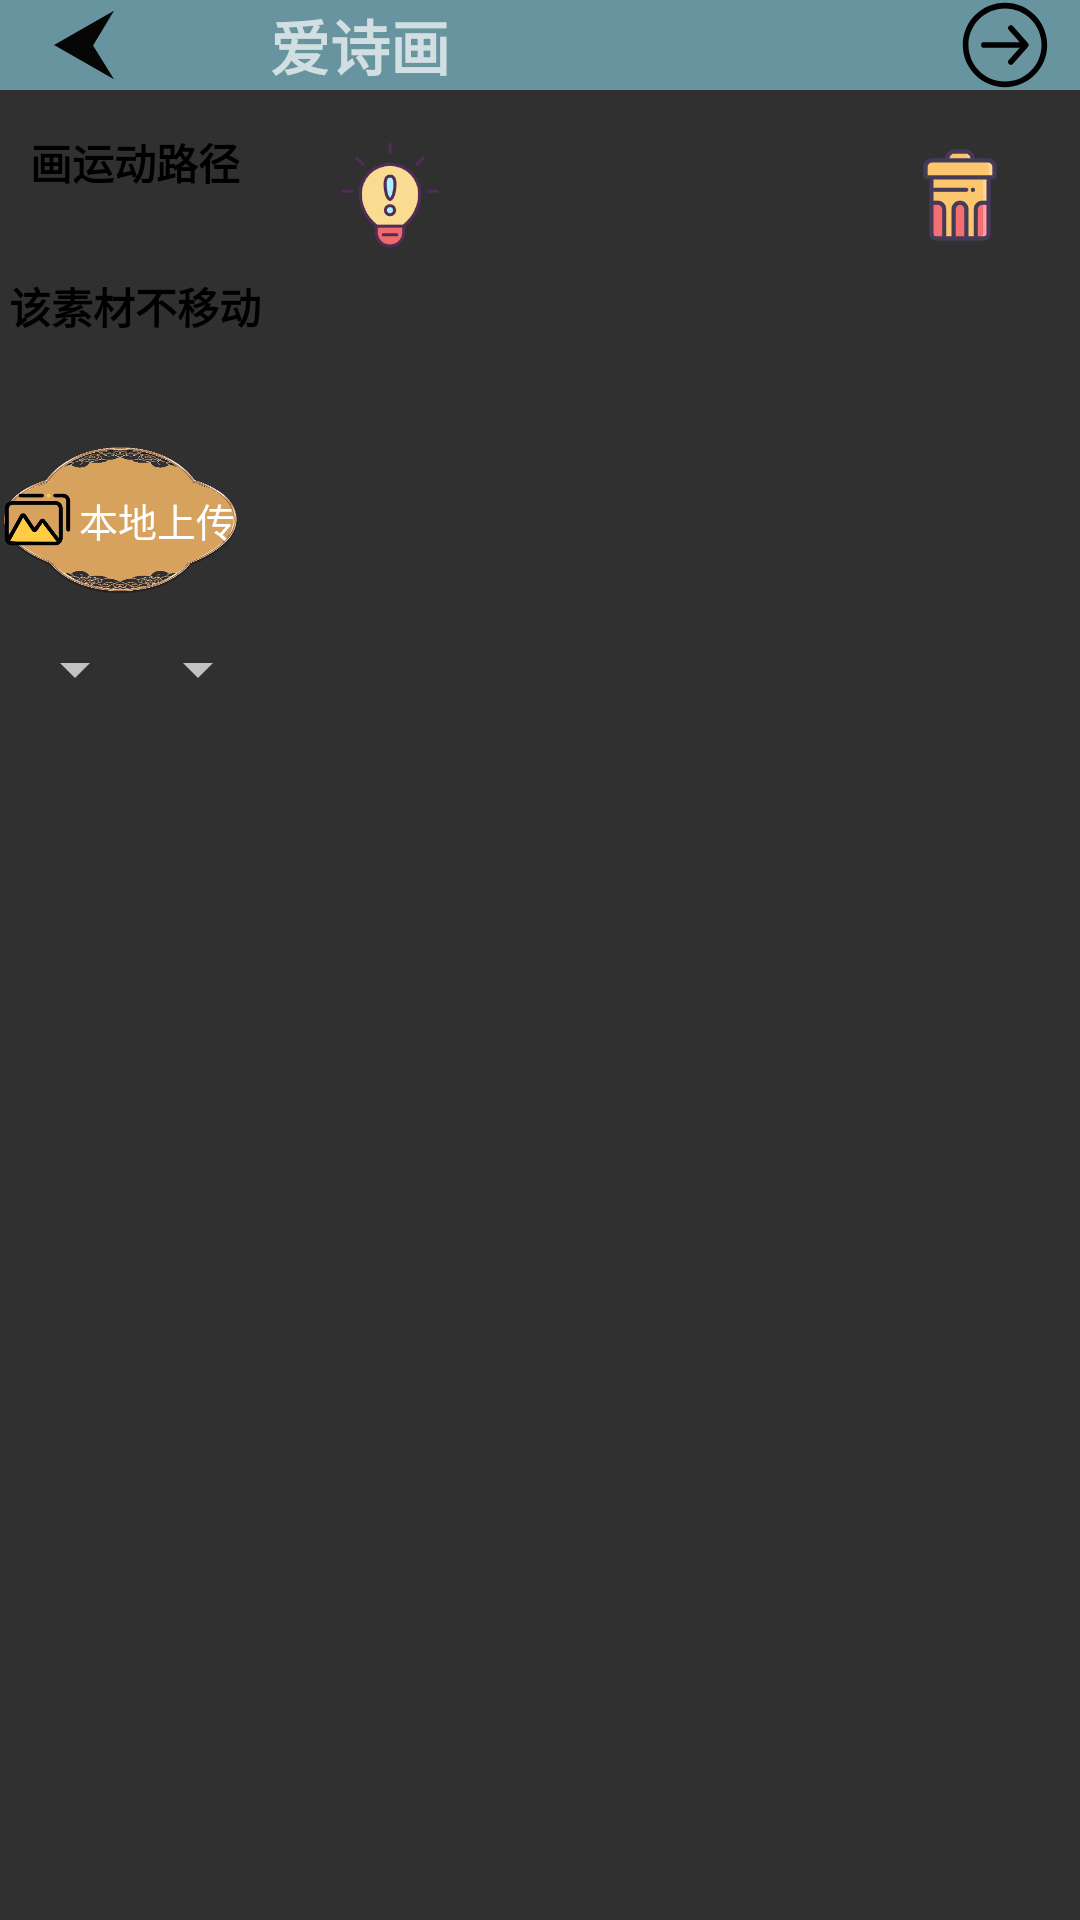

Icons on this 1080 x 1920 Android screen, each with its box as (x1, y1, x2, y2):
tip: (342, 143, 438, 247)
trash: (923, 149, 997, 241)
